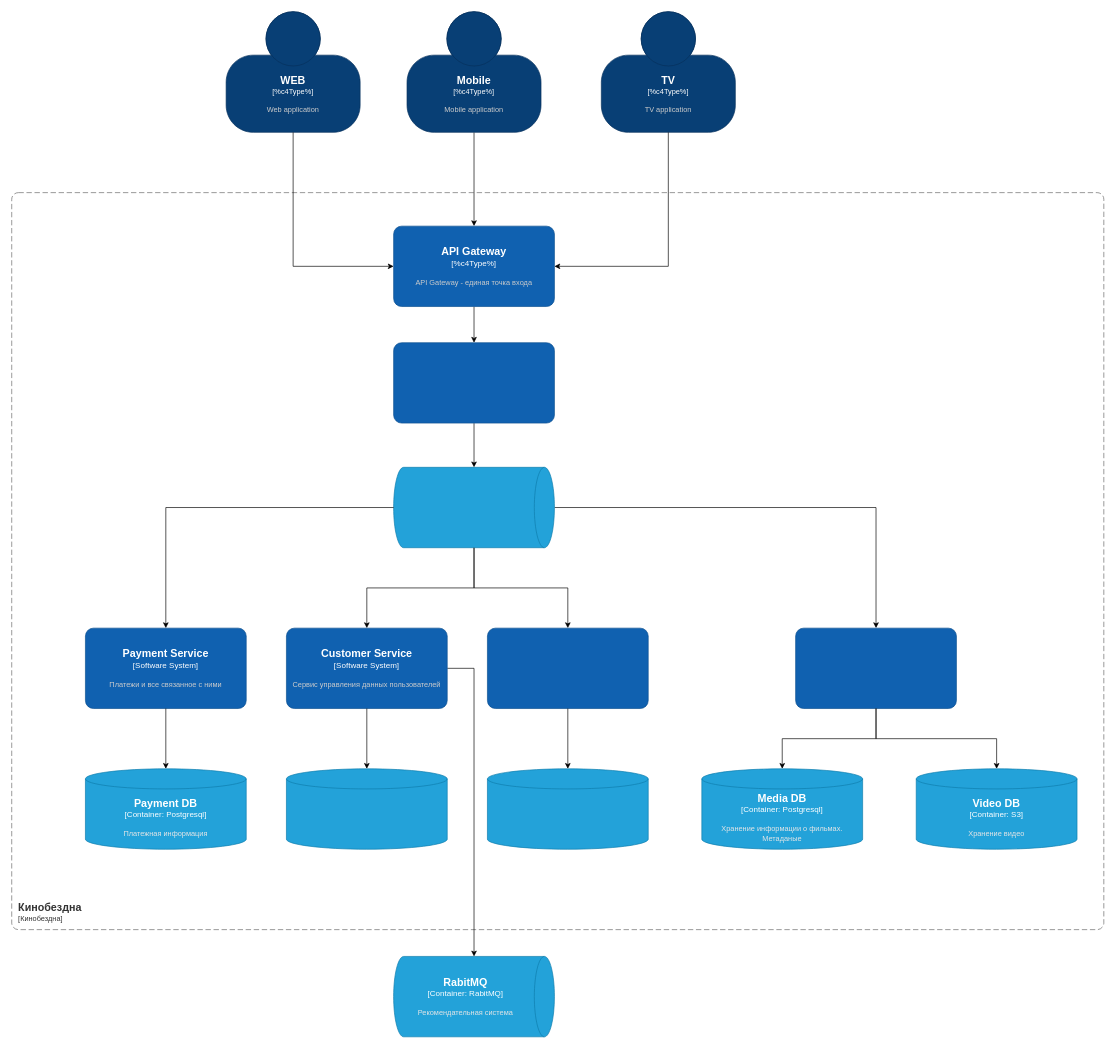
This 1116x1049 diagram has some shape labels left out. The shapes that lost their labels are listed below. From the top down, each one's centre as x and y in pixels, then its label:
At (x=473, y=382): "Serive mesh [Software System] Serive mesh".
At (x=473, y=507): "Kafka [Container: Apache Kafka] Kafka".
At (x=567, y=668): "Subscribe Service [Software System] Управление подпиской".
At (x=875, y=668): "Media Service [Software System] Управление видео и метаданные о фильмах".
At (x=366, y=808): "Customer DB [Container: Postgresql] Данные по пользователям".
At (x=567, y=808): "Subscribe DB [Container: Postgresql] База данных подписок".
